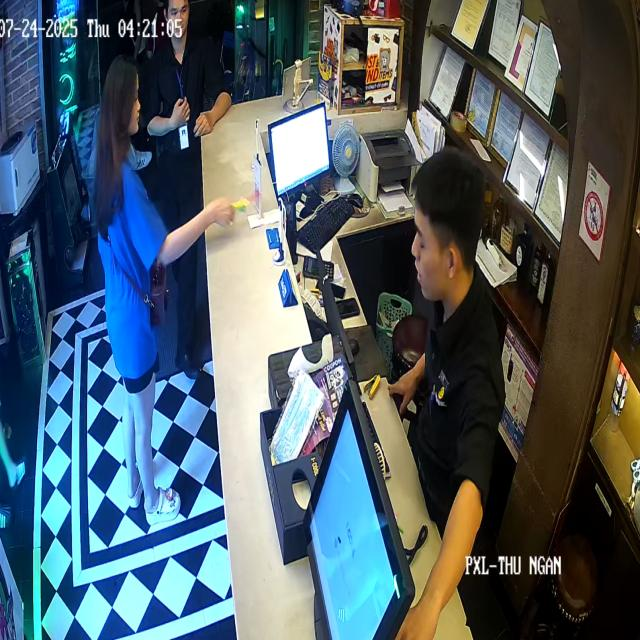khach: (89, 56, 218, 552)
nhan vien: (389, 109, 514, 640), (148, 0, 236, 390)
